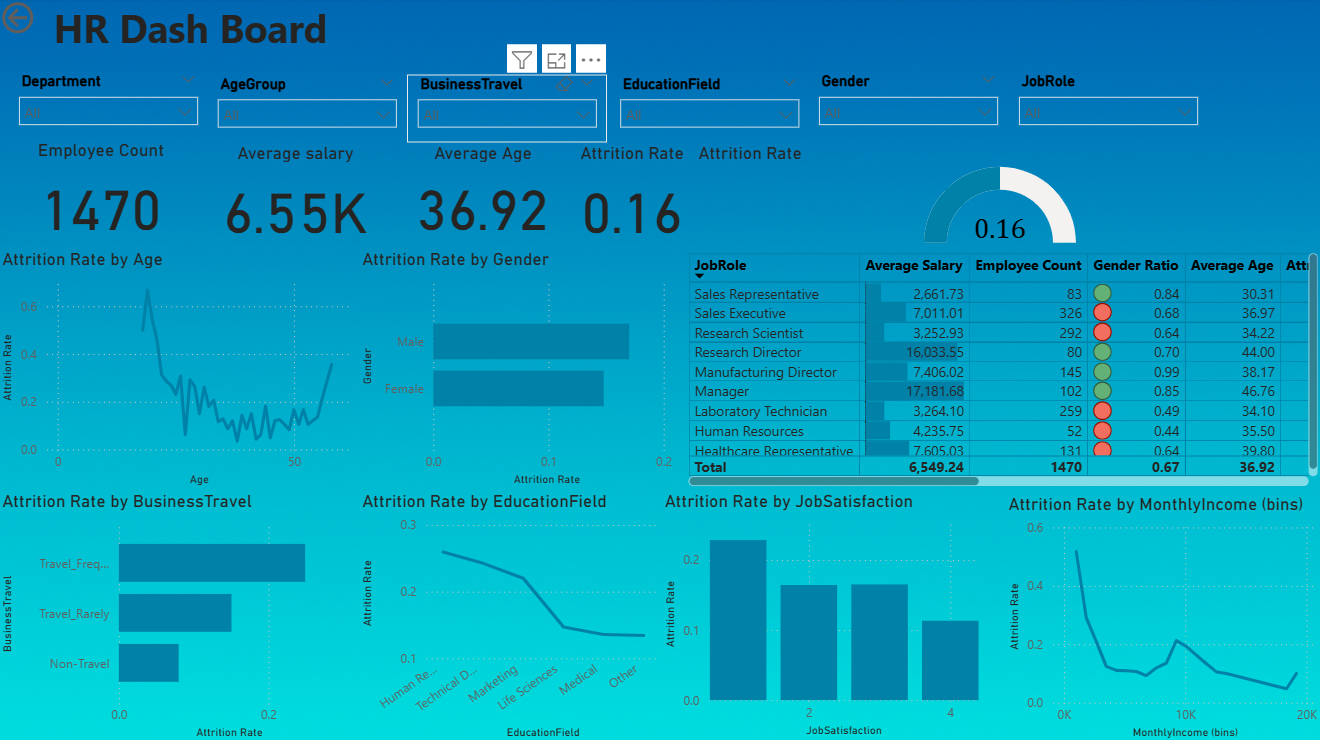

The dashboard page shown, as its layout file describes it:
{"tool":"powerbi","page":{"name":"ATTRITION","canvas":[1280,720],"ordinal":1},"visuals":[{"type":"barChart","fields":{"Category":["HR_Analytics.BusinessTravel"],"Y":["HR_Analytics.Attrition Rate "]},"box":[0,476.3,347.4,244.7],"z":0},{"type":"lineChart","fields":{"Y":["HR_Analytics.Attrition Rate "],"Category":["HR_Analytics.EducationField"]},"box":[347.4,476.3,297.4,244.7],"z":1000},{"type":"columnChart","fields":{"Category":["HR_Analytics.JobSatisfaction"],"Y":["HR_Analytics.Attrition Rate "]},"box":[639.5,476.3,313.2,242.1],"z":2000},{"type":"lineChart","fields":{"Y":["HR_Analytics.Attrition Rate "],"Category":["HR_Analytics.MonthlyIncome (bins)"]},"box":[971.1,478.9,307.9,242.1],"z":3000},{"type":"lineChart","fields":{"Category":["HR_Analytics.Age"],"Y":["HR_Analytics.Attrition Rate "]},"box":[0,242.1,347.4,234.2],"z":4000},{"type":"barChart","fields":{"Category":["HR_Analytics.Gender"],"Y":["HR_Analytics.Attrition Rate "]},"box":[347.4,242.1,313.2,234.2],"z":5000},{"type":"tableEx","fields":{"Values":["HR_Analytics.JobRole","HR_Analytics.Average Salary","HR_Analytics.Employee Count","HR_Analytics.Gender Ratio","HR_Analytics.Average Age","HR_Analytics.Attrition Rate ","HR_Analytics.Average Job Satisfaction","HR_Analytics.Average Salary Hike","HR_Analytics.OverTime %","HR_Analytics.Average Years","HR_Analytics.Attrition Count"]},"box":[660.5,242.1,618.4,234.2],"z":6000},{"type":"card","title":"Employee Count","fields":{"Values":["HR_Analytics.Employee Count"]},"box":[10,137.1,181.4,104.3],"z":7000},{"type":"card","title":"Average salary","fields":{"Values":["HR_Analytics.Average Salary"]},"box":[191.4,140,192.9,104.3],"z":8000},{"type":"card","title":"Average Age","fields":{"Values":["HR_Analytics.Average Age"]},"box":[384.3,140,168.6,98.6],"z":9000},{"type":"card","title":"Attrition Rate","fields":{"Values":["HR_Analytics.Attrition Rate "]},"box":[538.6,140,150,104.3],"z":10000},{"type":"actionButton","box":[0,0,100,40],"z":11000},{"type":"gauge","fields":{"Y":["HR_Analytics.Attrition Rate "]},"box":[688.6,138.6,191.4,104.3],"z":12000},{"type":"gauge","fields":{"Y":["HR_Analytics.Attrition Rate "]},"box":[880,140,178.6,102.9],"z":13000},{"type":"gauge","fields":{"Y":["HR_Analytics.Attrition Rate "]},"box":[1058.6,140,220,102.9],"z":14000},{"type":"slicer","fields":{"Values":["HR_Analytics.Department"]},"box":[11.4,72.9,192.9,65.7],"z":15000},{"type":"slicer","fields":{"Values":["HR_Analytics.AgeGroup"]},"box":[202.9,74.3,192.9,65.7],"z":16000},{"type":"slicer","fields":{"Values":["HR_Analytics.BusinessTravel"]},"box":[395.7,74.3,192.9,65.7],"z":17000},{"type":"slicer","fields":{"Values":["HR_Analytics.EducationField"]},"box":[591.4,74.3,192.9,65.7],"z":18000},{"type":"slicer","fields":{"Values":["HR_Analytics.Gender"]},"box":[782.9,72.9,192.9,65.7],"z":19000},{"type":"slicer","fields":{"Values":["HR_Analytics.JobRole"]},"box":[975.7,72.9,192.9,65.7],"z":20000},{"type":"textbox","box":[50,0,378.6,74.3],"z":21000}]}

Visuals, with their boxes in screenshot pixels (x1, y1, x2, y2), scaled from the page's 1280x720 canvas onto the 1320x740 screenshot:
barChart - HR_Analytics.BusinessTravel x HR_Analytics.Attrition Rate : (x1=0, y1=490, x2=358, y2=739)
lineChart - HR_Analytics.Attrition Rate  x HR_Analytics.EducationField: (x1=358, y1=490, x2=665, y2=739)
columnChart - HR_Analytics.JobSatisfaction x HR_Analytics.Attrition Rate : (x1=659, y1=490, x2=982, y2=738)
lineChart - HR_Analytics.Attrition Rate  x HR_Analytics.MonthlyIncome (bins): (x1=1001, y1=492, x2=1319, y2=739)
lineChart - HR_Analytics.Age x HR_Analytics.Attrition Rate : (x1=0, y1=249, x2=358, y2=490)
barChart - HR_Analytics.Gender x HR_Analytics.Attrition Rate : (x1=358, y1=249, x2=681, y2=490)
tableEx - HR_Analytics.JobRole x HR_Analytics.Average Salary: (x1=681, y1=249, x2=1319, y2=490)
"Employee Count" card: (x1=10, y1=141, x2=197, y2=248)
"Average salary" card: (x1=197, y1=144, x2=396, y2=251)
"Average Age" card: (x1=396, y1=144, x2=570, y2=245)
"Attrition Rate" card: (x1=555, y1=144, x2=710, y2=251)
actionButton: (x1=0, y1=0, x2=103, y2=41)
gauge - HR_Analytics.Attrition Rate : (x1=710, y1=142, x2=908, y2=250)
gauge - HR_Analytics.Attrition Rate : (x1=908, y1=144, x2=1092, y2=250)
gauge - HR_Analytics.Attrition Rate : (x1=1092, y1=144, x2=1319, y2=250)
slicer - HR_Analytics.Department: (x1=12, y1=75, x2=211, y2=142)
slicer - HR_Analytics.AgeGroup: (x1=209, y1=76, x2=408, y2=144)
slicer - HR_Analytics.BusinessTravel: (x1=408, y1=76, x2=607, y2=144)
slicer - HR_Analytics.EducationField: (x1=610, y1=76, x2=809, y2=144)
slicer - HR_Analytics.Gender: (x1=807, y1=75, x2=1006, y2=142)
slicer - HR_Analytics.JobRole: (x1=1006, y1=75, x2=1205, y2=142)
textbox: (x1=52, y1=0, x2=442, y2=76)
